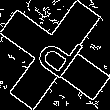P_SW: (25, 24, 85, 86)
